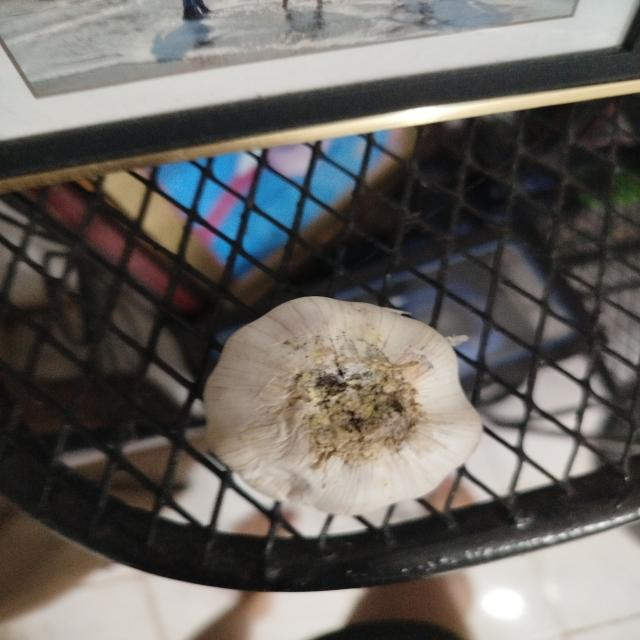garlic: (202, 295, 483, 515)
